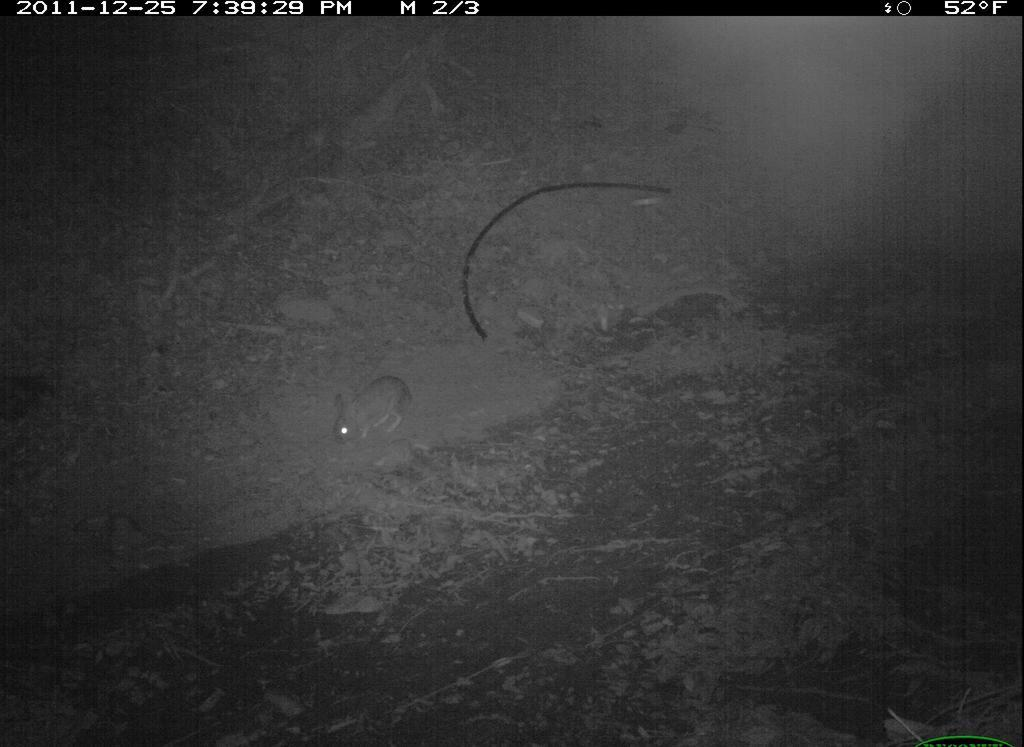rabbit: (323, 369, 418, 450)
